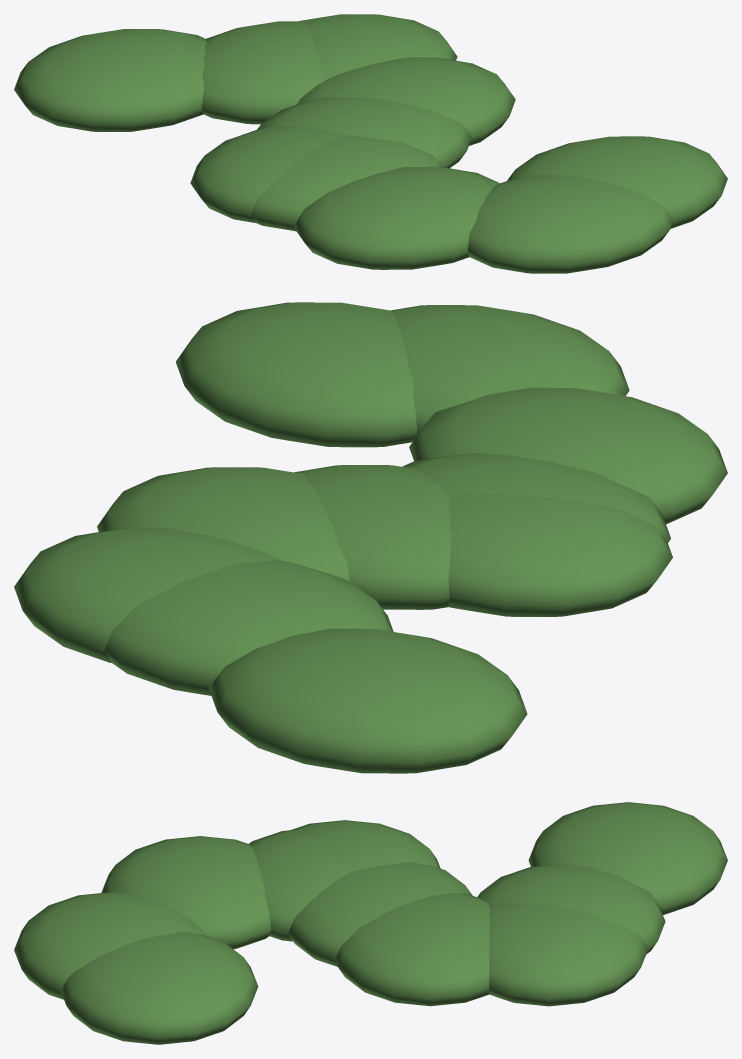
The model's file is moss_patch.glb.
3 views of the same model, one above another, from view 1: azimuth 30°, elevation 25°; view 2: azimuth 150°, elevation 25°; view 3: azimuth 270°, elevation 25° (orthographic). The views are drawn at different scales.
Parts seen in each view (by area): view 1: Moss_tuft.007, Moss_tuft.011, Moss_tuft.006, Moss_tuft.003, Moss_tuft.002, Moss_tuft.005, Moss_tuft.009, Moss_tuft.001, Moss_tuft, Moss_tuft.010; view 2: Moss_tuft.007, Moss_tuft.003, Moss_tuft.009, Moss_tuft.006, Moss_tuft.002, Moss_tuft.011, Moss_tuft.010, Moss_tuft, Moss_tuft.005, Moss_tuft.001; view 3: Moss_tuft.003, Moss_tuft.005, Moss_tuft.007, Moss_tuft.010, Moss_tuft.006, Moss_tuft.011, Moss_tuft, Moss_tuft.002, Moss_tuft.001, Moss_tuft.009.
Boxes of the visible parts, x1=… form: Moss_tuft.007: x1=14, y1=29, x2=206, y2=131; Moss_tuft.011: x1=468, y1=174, x2=673, y2=273; Moss_tuft.006: x1=294, y1=166, x2=500, y2=269; Moss_tuft.003: x1=507, y1=136, x2=727, y2=228; Moss_tuft.002: x1=202, y1=21, x2=324, y2=124; Moss_tuft.005: x1=297, y1=57, x2=515, y2=145; Moss_tuft.009: x1=190, y1=125, x2=343, y2=223; Moss_tuft.001: x1=251, y1=135, x2=442, y2=231; Moss_tuft: x1=257, y1=97, x2=471, y2=168; Moss_tuft.010: x1=299, y1=14, x2=457, y2=80; Moss_tuft.007: x1=208, y1=628, x2=527, y2=773; Moss_tuft.003: x1=176, y1=302, x2=417, y2=447; Moss_tuft.009: x1=448, y1=493, x2=672, y2=616; Moss_tuft.006: x1=409, y1=387, x2=727, y2=524; Moss_tuft.002: x1=104, y1=560, x2=393, y2=695; Moss_tuft.011: x1=390, y1=305, x2=629, y2=436; Moss_tuft.010: x1=14, y1=527, x2=281, y2=662; Moss_tuft: x1=294, y1=465, x2=451, y2=609; Moss_tuft.005: x1=97, y1=467, x2=349, y2=581; Moss_tuft.001: x1=402, y1=453, x2=670, y2=542; Moss_tuft.003: x1=61, y1=932, x2=258, y2=1044; Moss_tuft.005: x1=335, y1=893, x2=489, y2=1006; Moss_tuft.007: x1=528, y1=802, x2=727, y2=914; Moss_tuft.010: x1=489, y1=902, x2=648, y2=1006; Moss_tuft.006: x1=101, y1=836, x2=271, y2=949; Moss_tuft.011: x1=14, y1=892, x2=205, y2=999; Moss_tuft: x1=288, y1=862, x2=472, y2=966; Moss_tuft.002: x1=477, y1=864, x2=665, y2=954; Moss_tuft.001: x1=249, y1=830, x2=349, y2=941; Moss_tuft.009: x1=290, y1=820, x2=440, y2=872.
Bounding box in the file's own units: 0.4045 × 0.05 × 0.5368.
